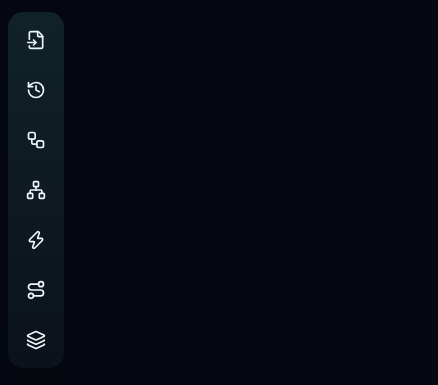
Scenario: LeftPanel › shows compact previews for text and image assets
expect the button "Text" is not shown: met
Step 1. Click the button named "Assets" → (36,40), box [14,18,58,62]
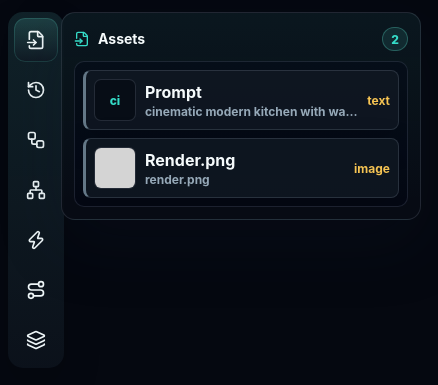
expect the text "cinematic modern kitchen" is shown: met, box [145,104,408,118]
